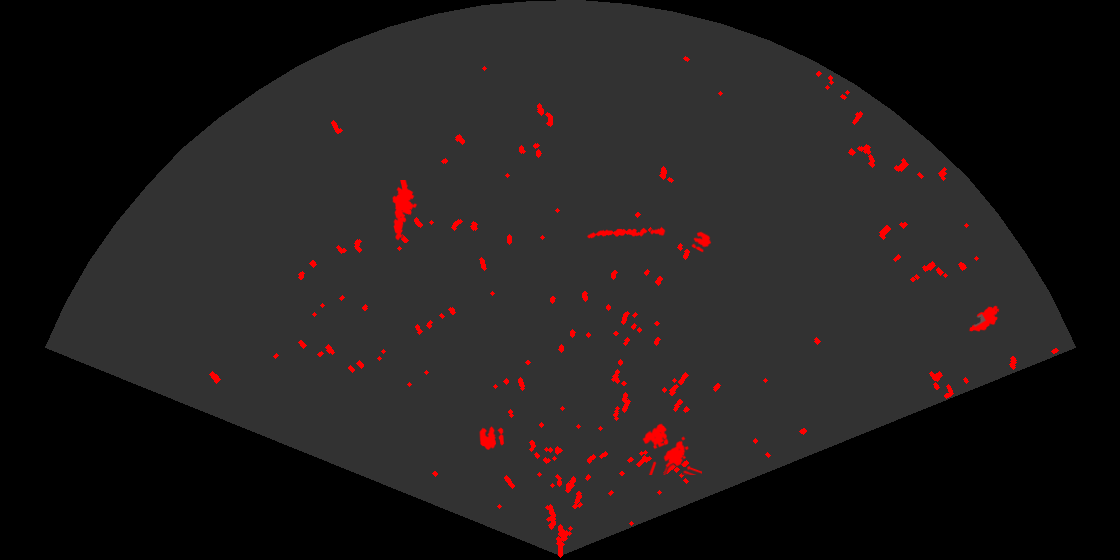AUV: (967, 304, 1001, 333)
ball: (478, 425, 506, 451), (690, 230, 713, 254)
cage: (641, 422, 702, 475)
chain: (586, 225, 666, 240)
frogman: (391, 180, 419, 241)
